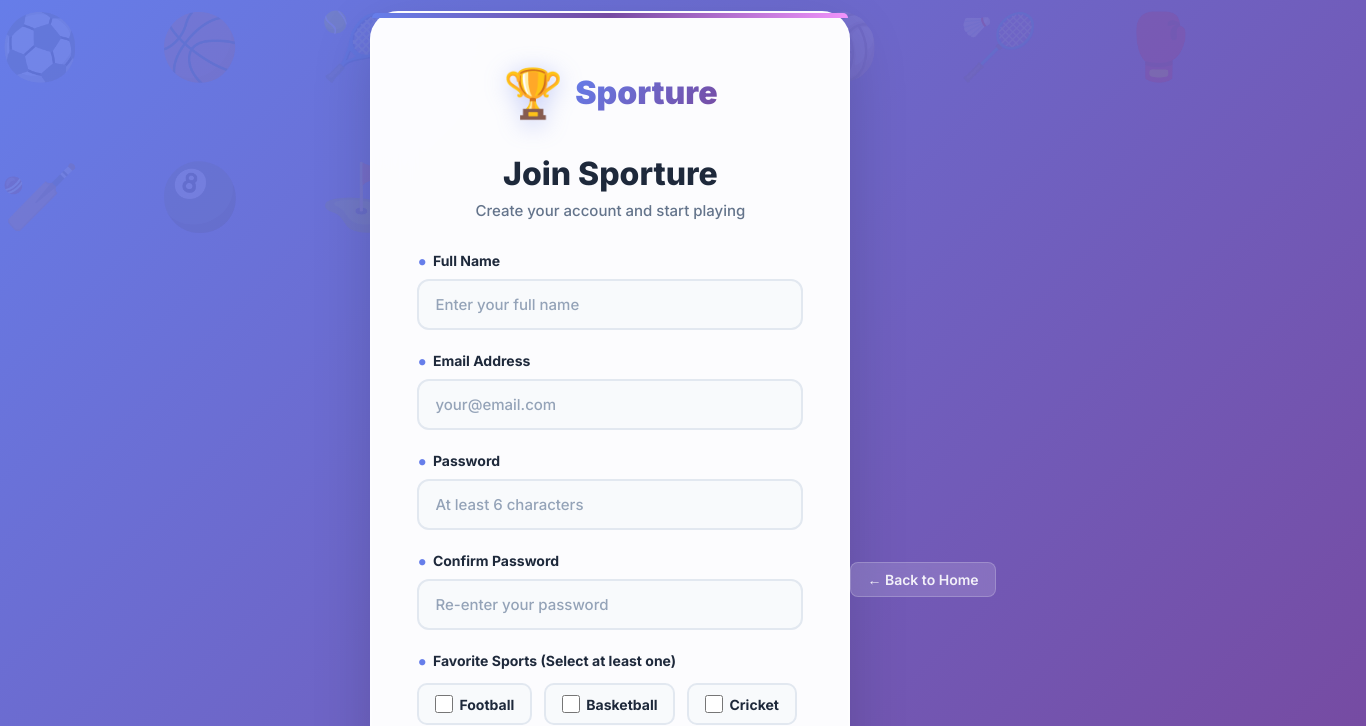
Scenario: Register › requires at least one favourite sport
The image size is (1366, 726).
Type "Radha Raman" into the field with placeholder "Enter your full name" at (610, 304), box [417,279,803,330]
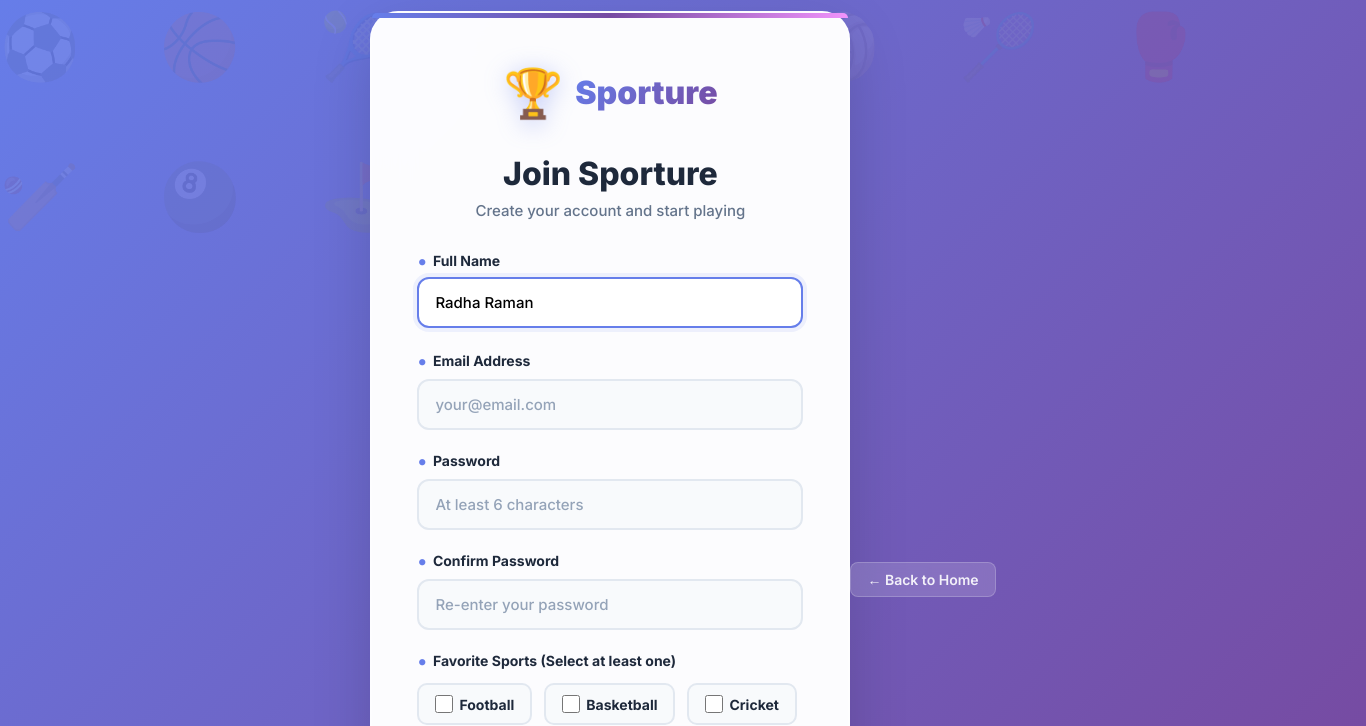
Type "radha@example.com" into the field with placeholder "your@email.com" at (610, 404), box [417,379,803,430]
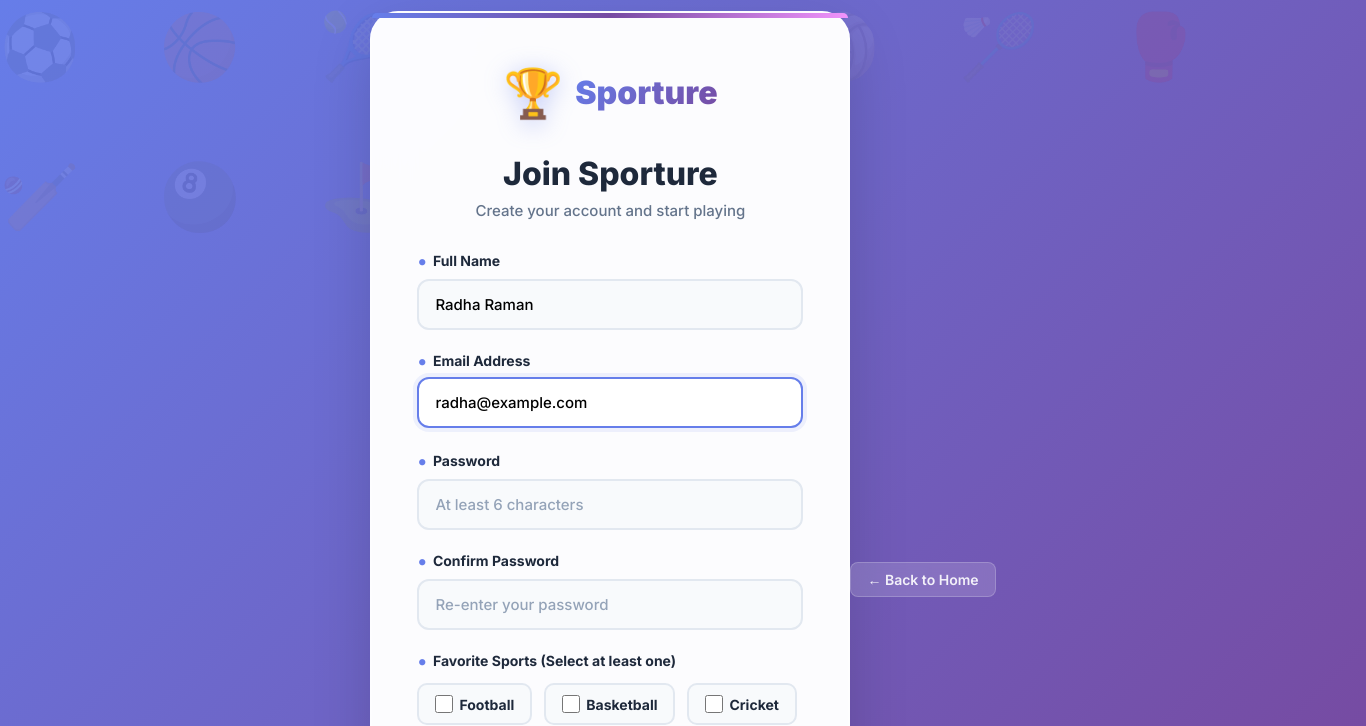
Type "SuperSecret123" into the password field named "password" at (610, 504), box [417,479,803,530]
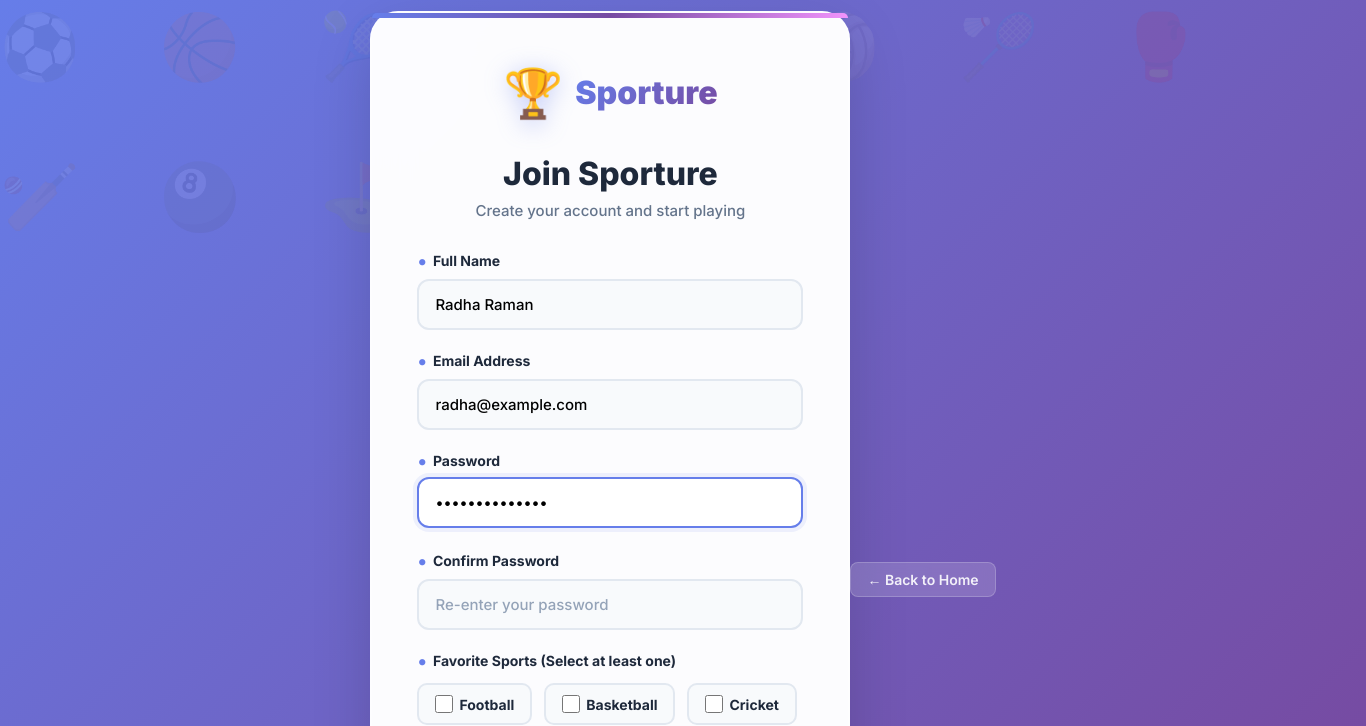
Type "SuperSecret123" into the password field named "confirmPassword" at (610, 604), box [417,579,803,630]
(page scrolled)
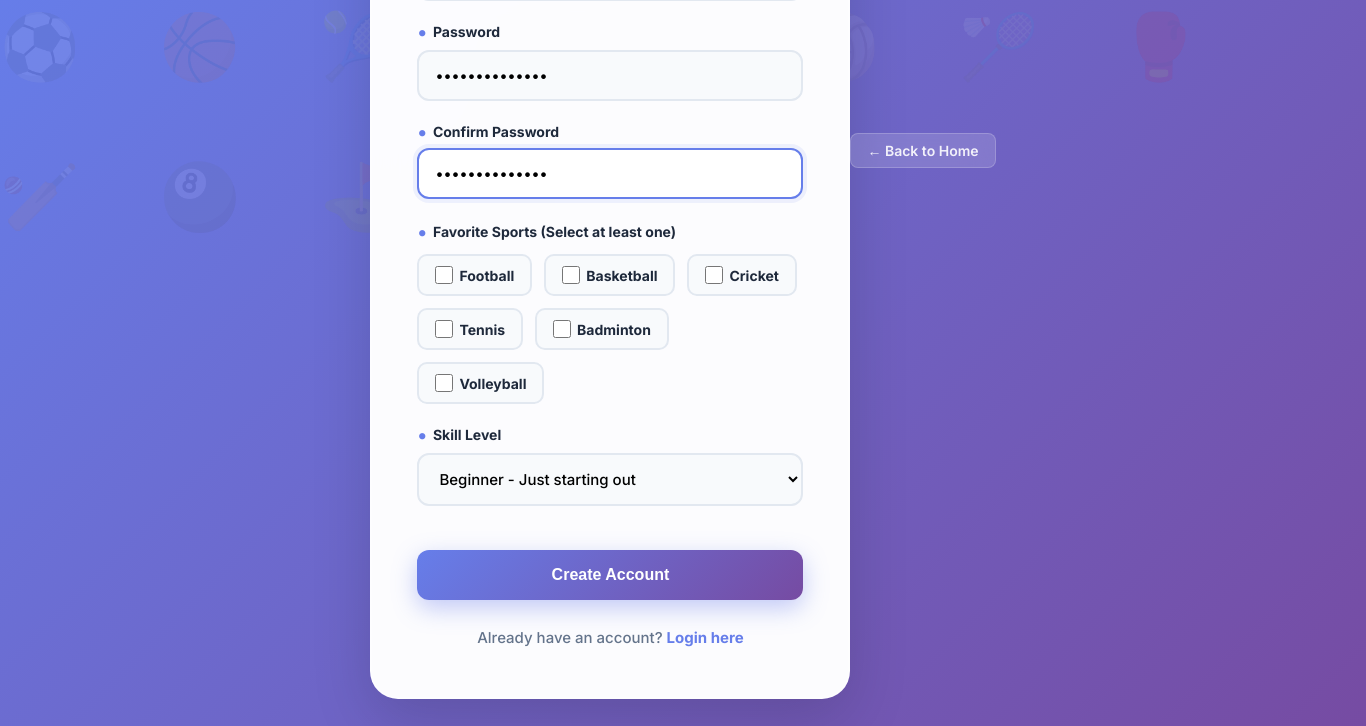
Click the button "Create Account" at (610, 575), box [417,550,803,600]
(page scrolled)
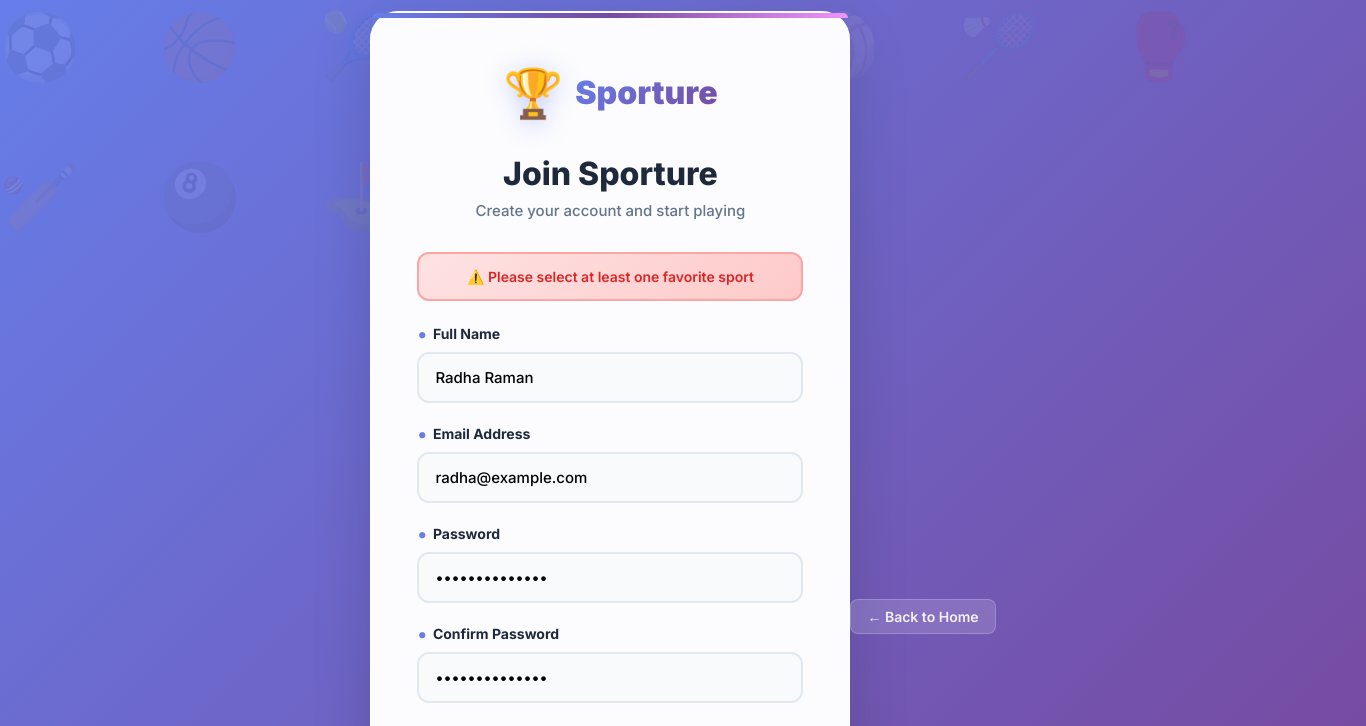
Check: the text "⚠️ Please select at least one favorite sport" is shown, box [417,252,803,301]
